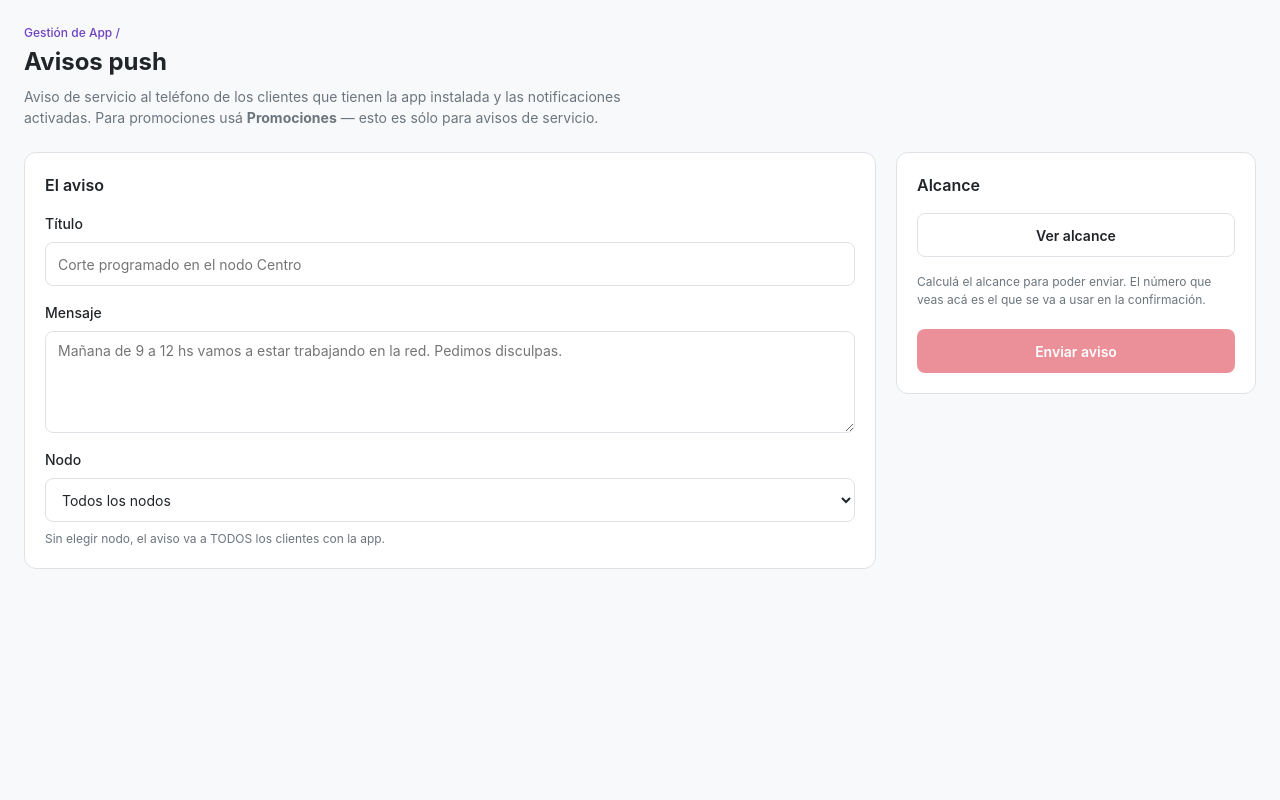
Test: PP-1: el envío exige ver el alcance primero › se habilita recién después de "Ver alcance"
The image size is (1280, 800).
Type "Corte programado" into the field labelled "Título".
click(450, 264); type("Corte programado")  # box [45,242,855,286]
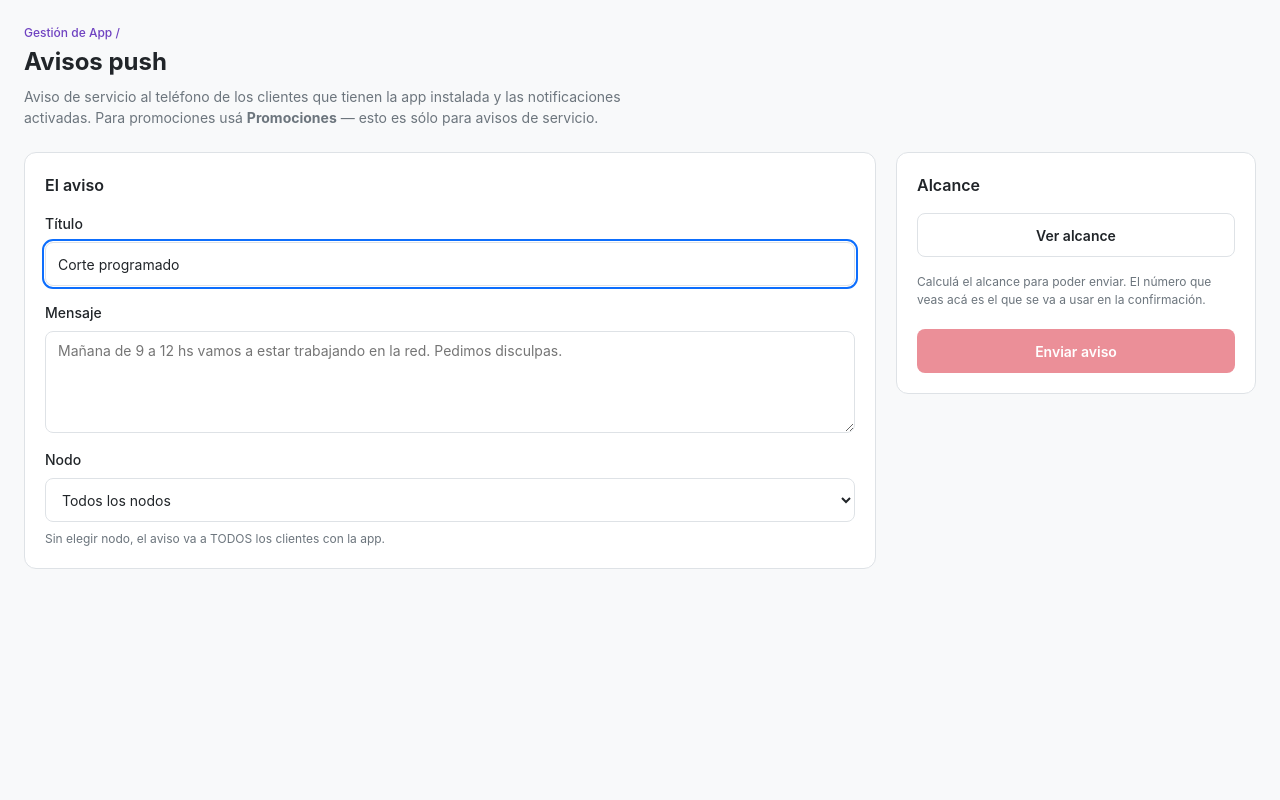
Type "Mañana de 9 a 12 hs." into the text box labelled "Mensaje".
click(450, 382); type("Mañana de 9 a 12 hs.")  # box [45,331,855,433]
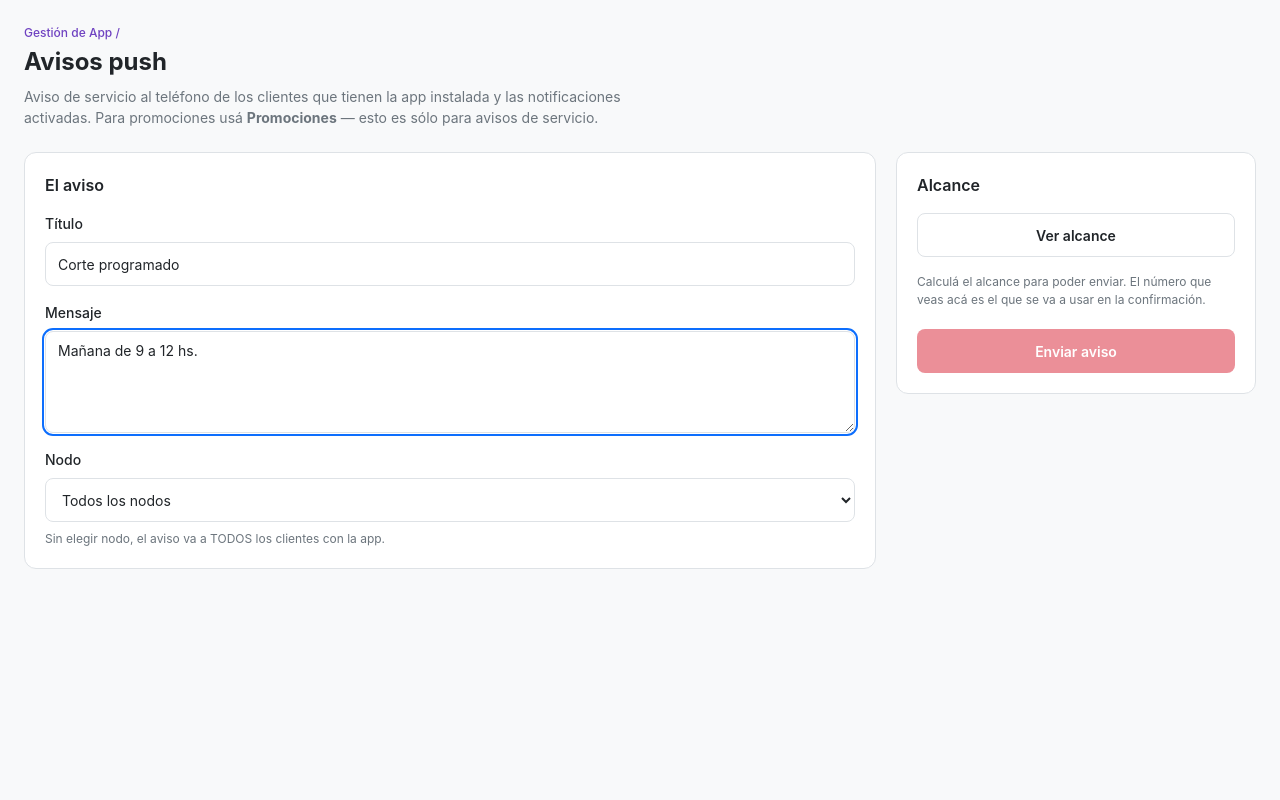
Click the button "Ver alcance".
click(1076, 235)  # box [917,213,1235,257]
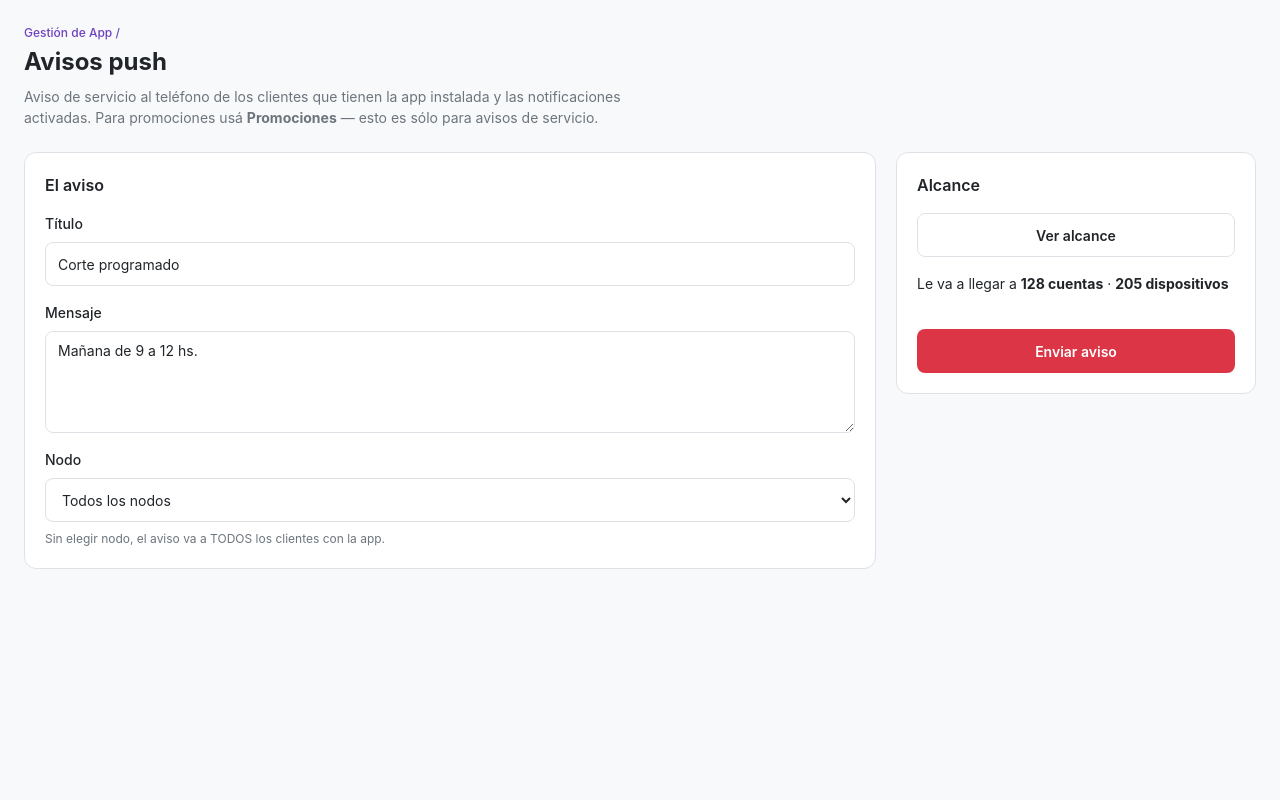
Now the button "Enviar aviso" is enabled, box [917,329,1235,373]
